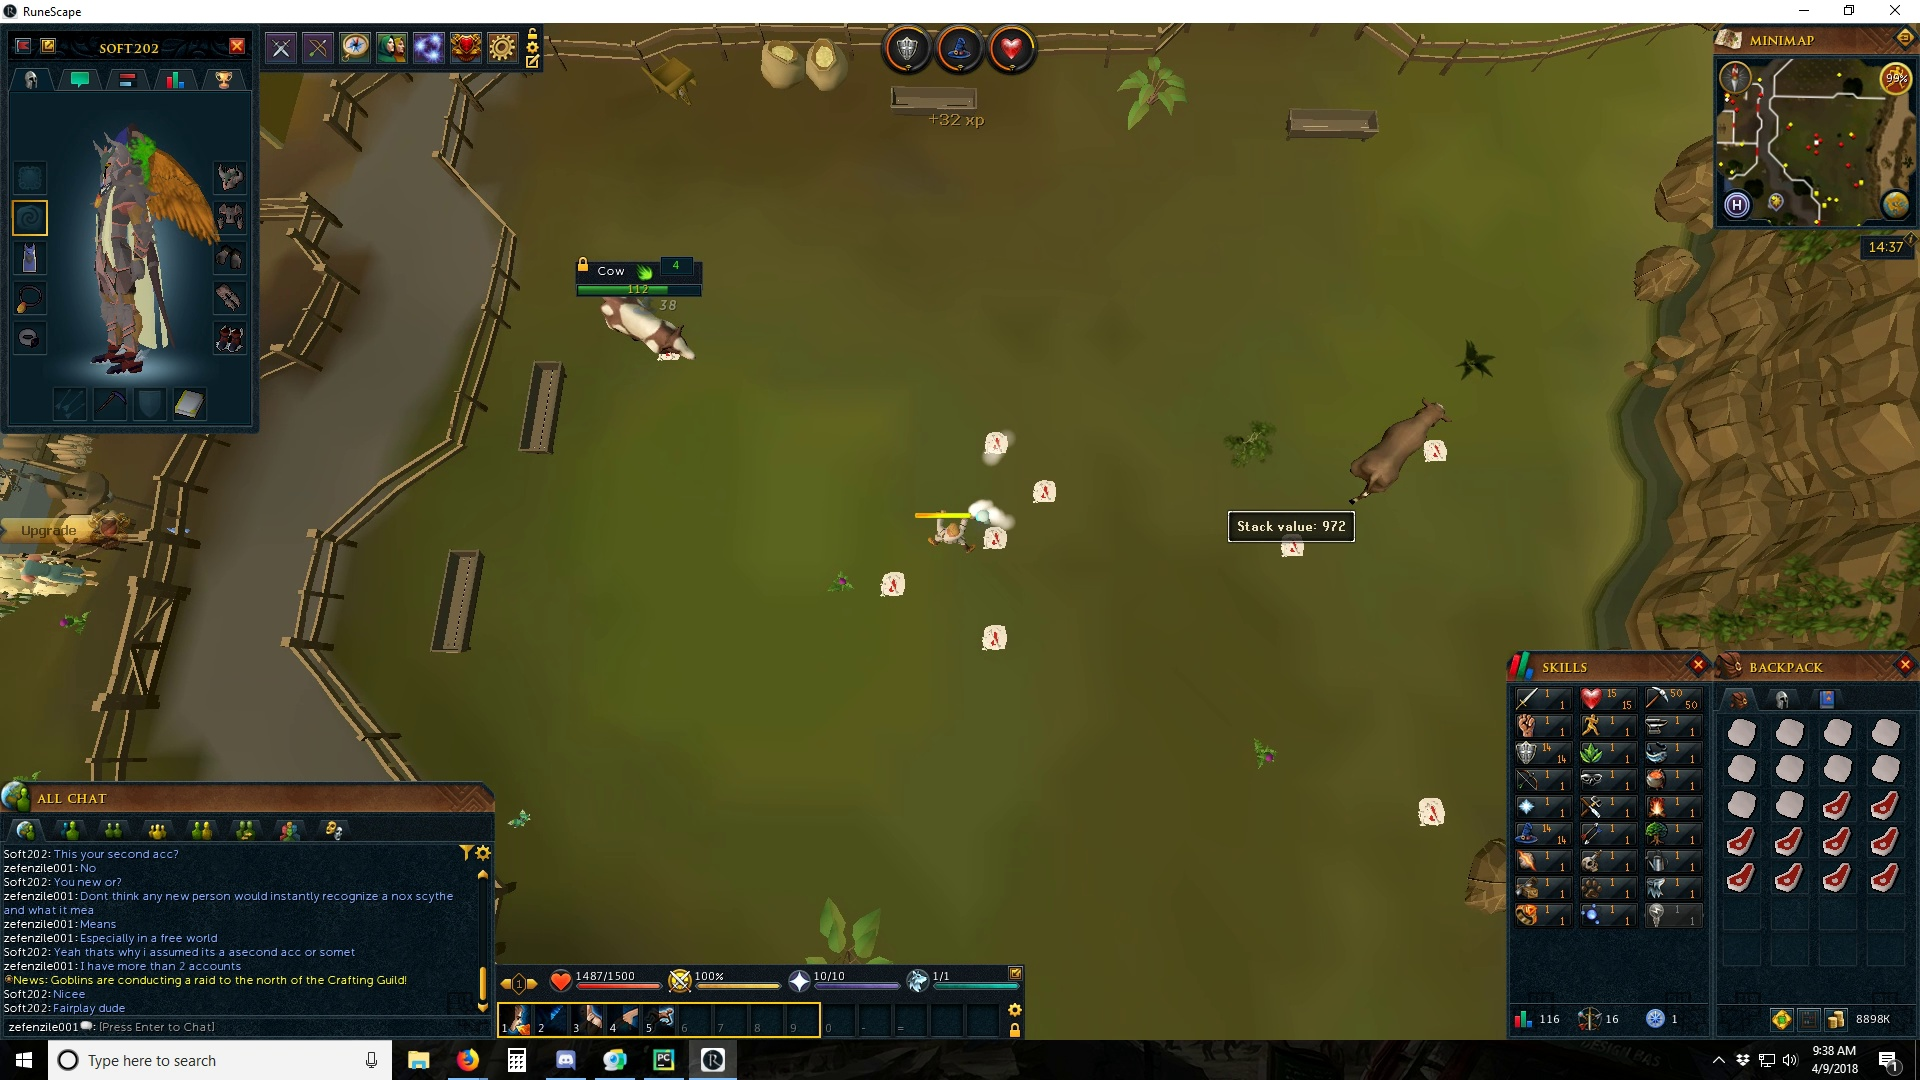cow: (1346, 397, 1455, 506), (597, 297, 698, 367)
cow_drop: (1412, 789, 1449, 833), (876, 571, 907, 600), (975, 626, 1010, 651), (1026, 477, 1060, 502), (976, 527, 1010, 553), (982, 427, 1010, 458), (1419, 438, 1449, 464), (1279, 534, 1308, 559)
